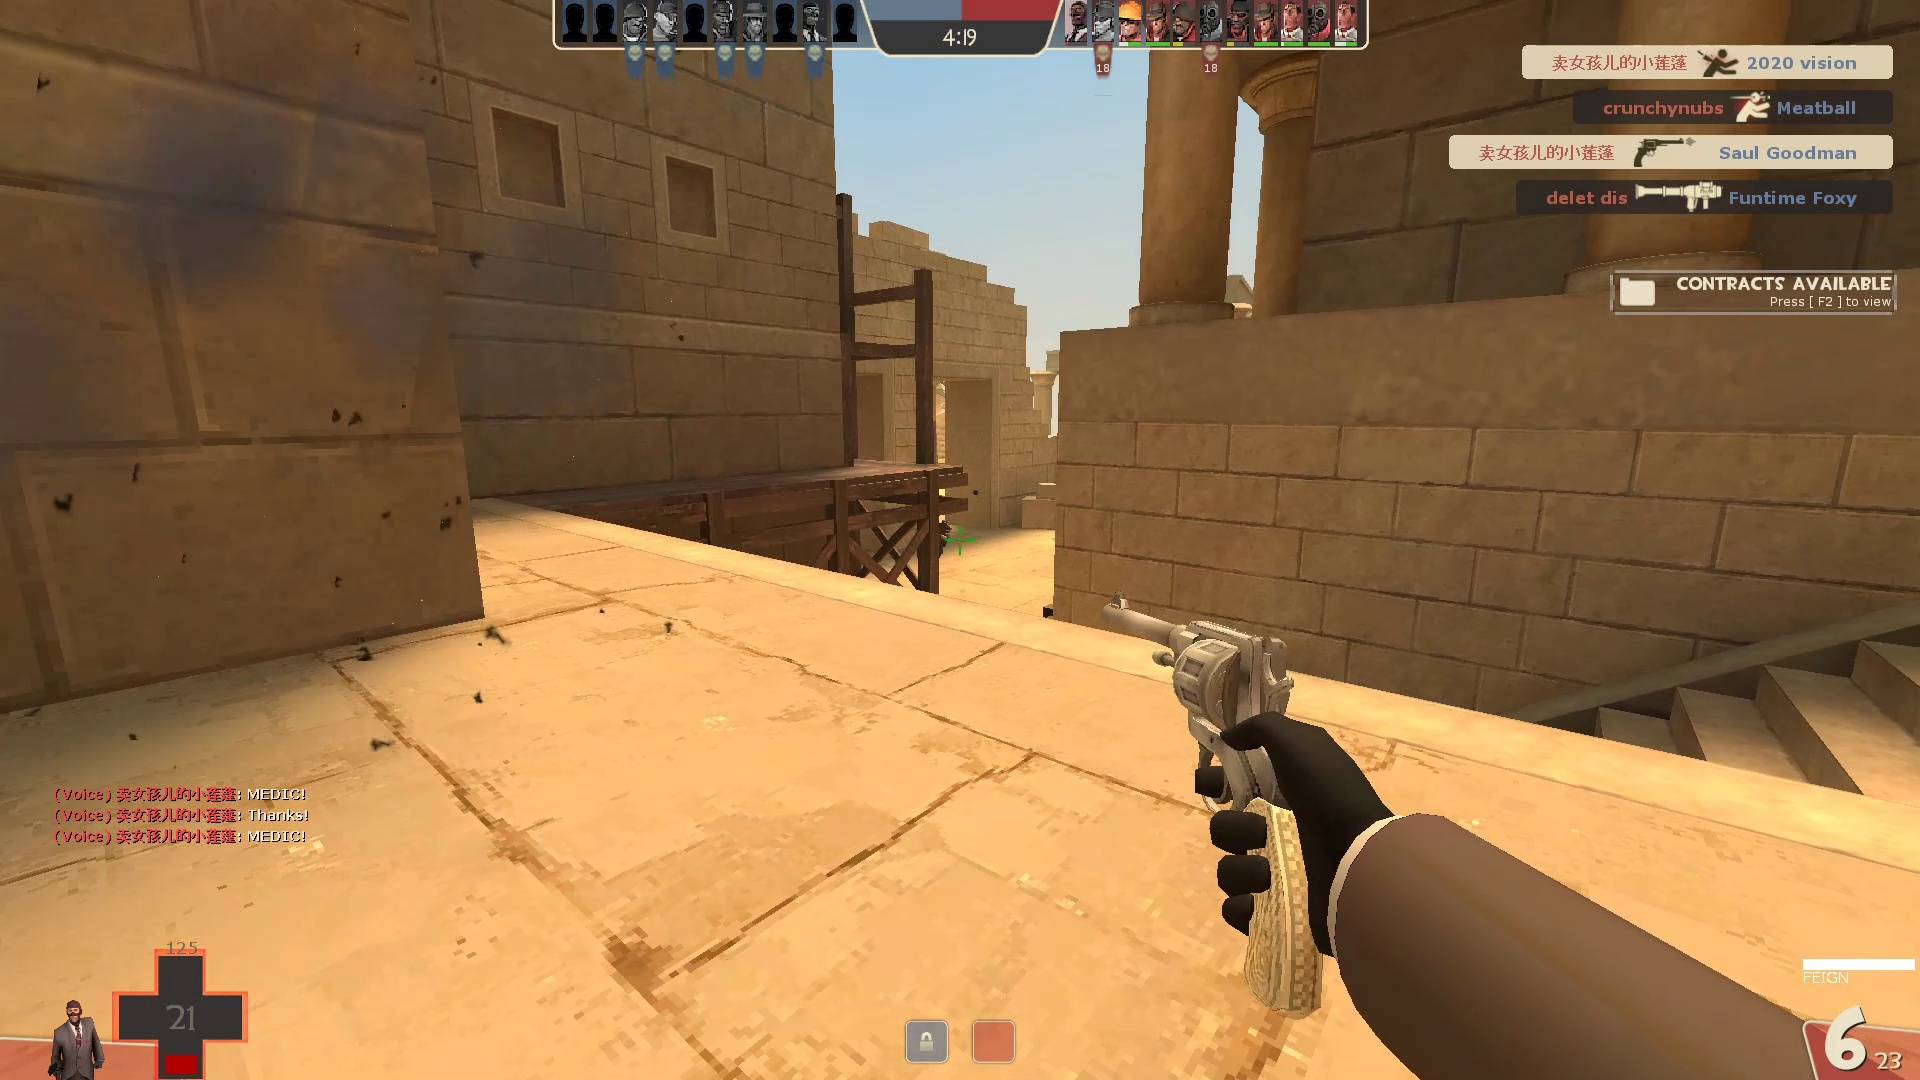blu_demo: (928, 520, 957, 563)
